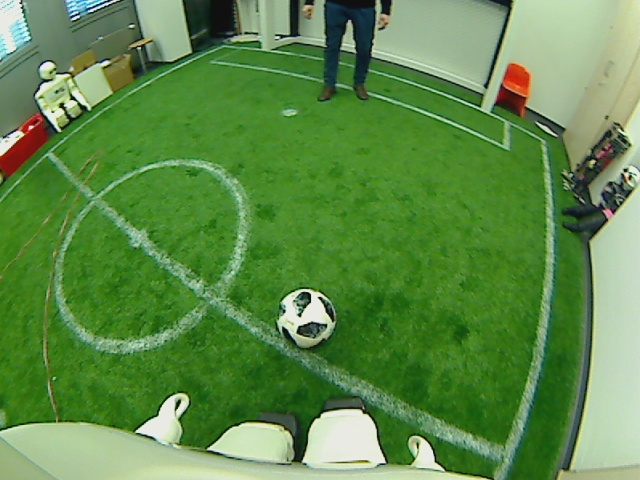ball: (275, 288, 338, 350)
